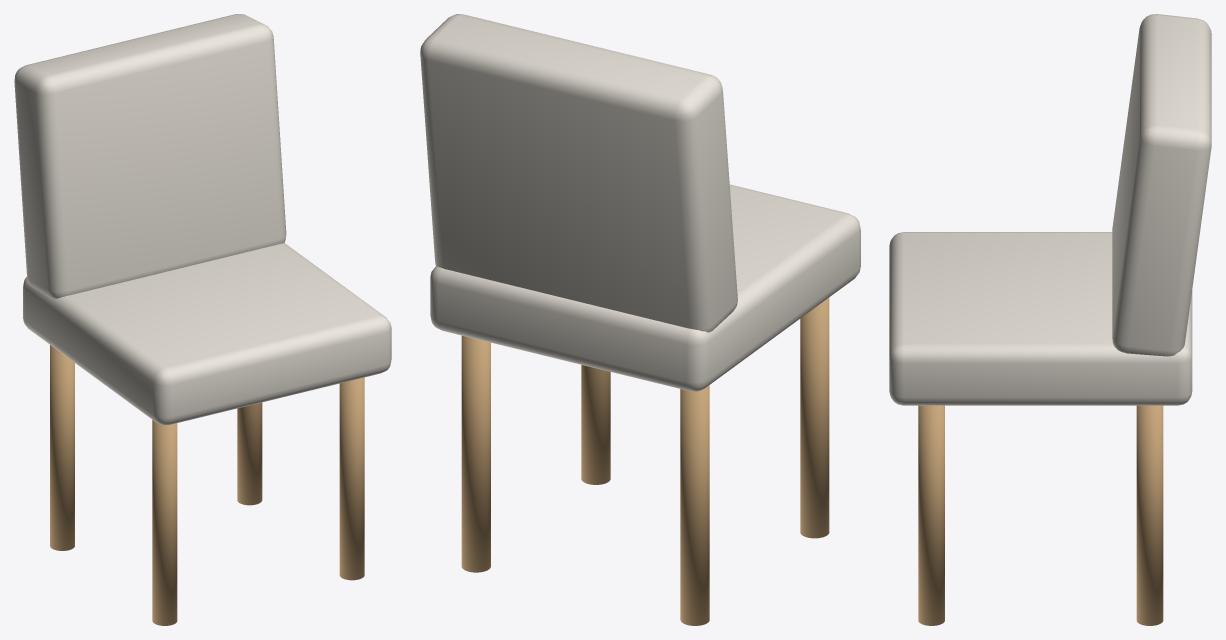
The model's file is dining-chair.glb.
The picture shows the model from 3 angles, left to right: view 1: azimuth 30°, elevation 25°; view 2: azimuth 150°, elevation 25°; view 3: azimuth 270°, elevation 25°; orthographic projection. The views are drawn at different scales.
Visible parts, largest first — view 1: CANONICAL back, CANONICAL seat, CANONICAL oak leg, CANONICAL oak leg.002, CANONICAL oak leg.001, CANONICAL oak leg.003; view 2: CANONICAL back, CANONICAL seat, CANONICAL oak leg.001, CANONICAL oak leg.003, CANONICAL oak leg, CANONICAL oak leg.002; view 3: CANONICAL seat, CANONICAL back, CANONICAL oak leg.003, CANONICAL oak leg.002.
Part boxes in pixels (x1=…): CANONICAL back: x1=14, y1=14, x2=286, y2=298; CANONICAL seat: x1=23, y1=243, x2=391, y2=425; CANONICAL oak leg: x1=152, y1=420, x2=177, y2=625; CANONICAL oak leg.002: x1=339, y1=377, x2=364, y2=580; CANONICAL oak leg.001: x1=50, y1=345, x2=74, y2=550; CANONICAL oak leg.003: x1=237, y1=402, x2=262, y2=505; CANONICAL back: x1=420, y1=14, x2=737, y2=332; CANONICAL seat: x1=430, y1=184, x2=860, y2=391; CANONICAL oak leg.001: x1=680, y1=385, x2=709, y2=625; CANONICAL oak leg.003: x1=461, y1=335, x2=490, y2=572; CANONICAL oak leg: x1=800, y1=297, x2=829, y2=538; CANONICAL oak leg.002: x1=581, y1=365, x2=610, y2=484; CANONICAL seat: x1=889, y1=232, x2=1192, y2=405; CANONICAL back: x1=1112, y1=14, x2=1211, y2=356; CANONICAL oak leg.003: x1=1136, y1=405, x2=1163, y2=625; CANONICAL oak leg.002: x1=918, y1=405, x2=944, y2=625.
Bounding box in the file's own units: 0.48 × 0.9125 × 0.5319.
